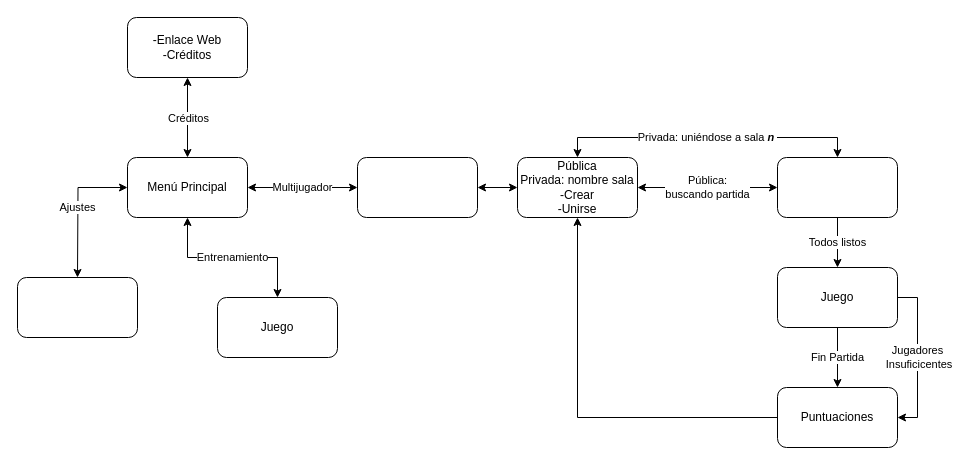
This 970x465 diagram has some shape labels left out. The shapes that lost their labels are listed below. From the top down, each one's box as (x1, y1, x2, y2) in pixels, then its label:
(356, 156, 478, 218): Nombre de Usuario
(776, 156, 898, 218): Sala -Lista Jugadores -Ready
(16, 276, 138, 338): -Sonido -Música -Controles
